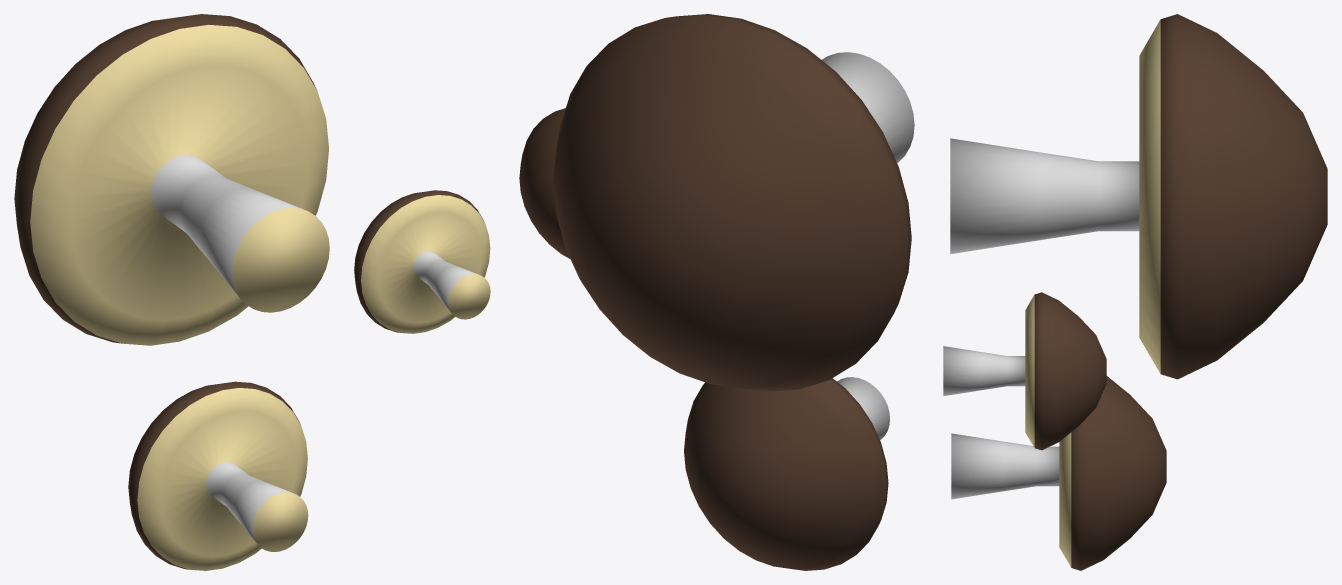
The model's file is mushroom (1).fbx.
3 views of the same model, side by side, from view 1: azimuth 30°, elevation 25°; view 2: azimuth 150°, elevation 25°; view 3: azimuth 270°, elevation 25° (orthographic). The views are drawn at different scales.
Parts seen in each view (by area): view 1: Cylinder.001; view 2: Cylinder.001; view 3: Cylinder.001.
Part boxes in pixels (x1,y1,x2,y2): Cylinder.001: [14, 14, 490, 570]; Cylinder.001: [519, 14, 914, 570]; Cylinder.001: [943, 14, 1327, 570].
Size of the model in its own units: 83.01 by 101 by 66.19.
